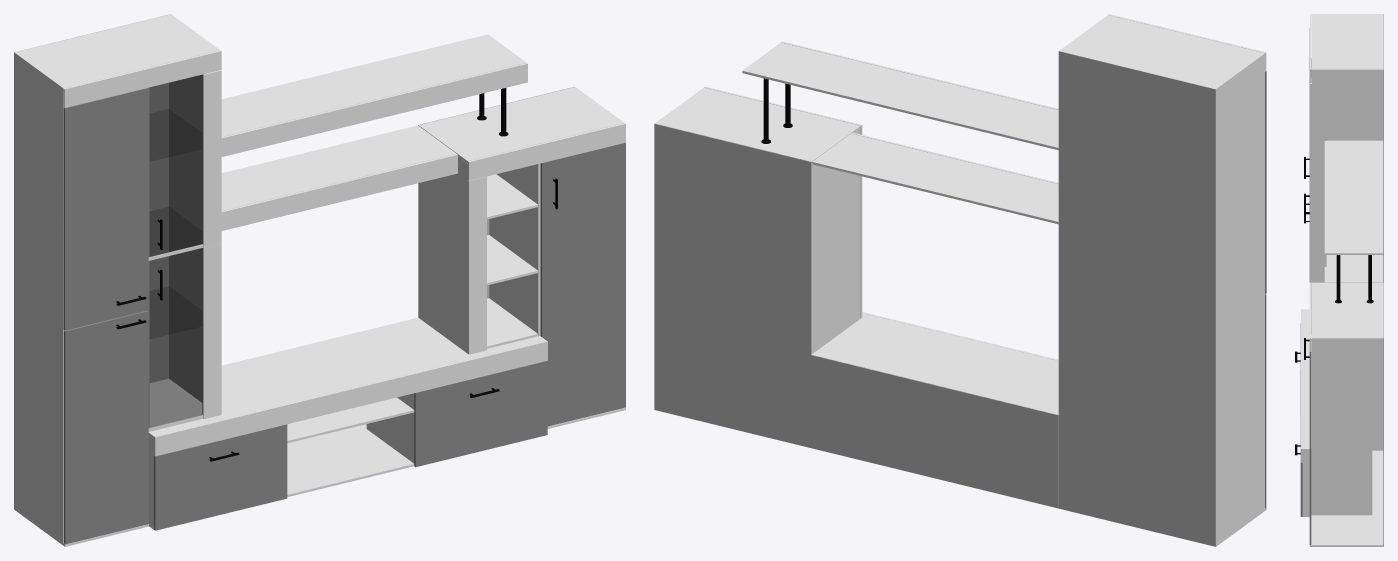
The model's file is table_TV.obj.
3 views of the same model, side by side, from view 1: azimuth 30°, elevation 25°; view 2: azimuth 150°, elevation 25°; view 3: azimuth 270°, elevation 25° (orthographic). The views are drawn at different scales.
Visible parts, largest first — view 1: Wall_004_Mesh.003, Wall_038_Mesh.037, Wall_003_Mesh.002, Wall_073_Mesh.072, Wall_067_Mesh.066, Wall_076_Mesh.075, Wall_082_Mesh.081, Wall_037_Mesh.036, Wall_058_Mesh.057, Wall_071_Mesh.070, Wall_070_Mesh.069, Wall_001_Mesh (+19 smaller); view 2: Wall_050_Mesh.049, Wall_049_Mesh.048, Wall_004_Mesh.003, Wall_076_Mesh.075, Wall_067_Mesh.066, Wall_001_Mesh, Wall_065_Mesh.064, Wall_002_Mesh.001, Wall_078_Mesh.077; view 3: Wall_064_Mesh.063, Wall_082_Mesh.081, Wall_076_Mesh.075, Wall_053_Mesh.052, Wall_002_Mesh.001, Wall_078_Mesh.077, Wall_052_Mesh.051, Wall_001_Mesh, Wall_067_Mesh.066, Wall_054_Mesh.053, Wall_038_Mesh.037, Wall_075_Mesh.074 (+11 smaller).
Boxes of the visible parts, left/top/right/bottom form: Wall_004_Mesh.003: left=14, top=55, right=64, bottom=543; Wall_038_Mesh.037: left=540, top=142, right=625, bottom=426; Wall_003_Mesh.002: left=63, top=88, right=148, bottom=330; Wall_073_Mesh.072: left=64, top=310, right=148, bottom=544; Wall_067_Mesh.066: left=148, top=318, right=545, bottom=438; Wall_076_Mesh.075: left=221, top=34, right=526, bottom=136; Wall_082_Mesh.081: left=169, top=75, right=202, bottom=402; Wall_037_Mesh.036: left=414, top=360, right=547, bottom=467; Wall_058_Mesh.057: left=154, top=424, right=287, bottom=530; Wall_071_Mesh.070: left=148, top=74, right=202, bottom=257; Wall_070_Mesh.069: left=148, top=248, right=202, bottom=428; Wall_001_Mesh: left=221, top=125, right=456, bottom=210; Wall_050_Mesh.049: left=1058, top=51, right=1215, bottom=546; Wall_049_Mesh.048: left=654, top=123, right=1058, bottom=508; Wall_004_Mesh.003: left=1216, top=56, right=1264, bottom=544; Wall_076_Mesh.075: left=742, top=42, right=1058, bottom=150; Wall_067_Mesh.066: left=811, top=313, right=1058, bottom=415; Wall_001_Mesh: left=812, top=133, right=1058, bottom=224; Wall_065_Mesh.064: left=811, top=128, right=860, bottom=354; Wall_002_Mesh.001: left=1059, top=15, right=1264, bottom=91; Wall_078_Mesh.077: left=655, top=87, right=860, bottom=163; Wall_064_Mesh.063: left=1311, top=340, right=1383, bottom=448; Wall_082_Mesh.081: left=1312, top=71, right=1383, bottom=282; Wall_076_Mesh.075: left=1326, top=140, right=1383, bottom=254; Wall_053_Mesh.052: left=1302, top=450, right=1372, bottom=515; Wall_002_Mesh.001: left=1312, top=14, right=1383, bottom=71; Wall_078_Mesh.077: left=1311, top=282, right=1383, bottom=339; Wall_052_Mesh.051: left=1309, top=515, right=1383, bottom=546; Wall_001_Mesh: left=1326, top=255, right=1383, bottom=282; Wall_067_Mesh.066: left=1302, top=309, right=1383, bottom=450; Wall_054_Mesh.053: left=1302, top=450, right=1383, bottom=516; Wall_038_Mesh.037: left=1309, top=352, right=1311, bottom=544; Wall_075_Mesh.074: left=1324, top=141, right=1326, bottom=266.
Size of the model in its own units: 1.92 by 1.51 by 0.3616.
